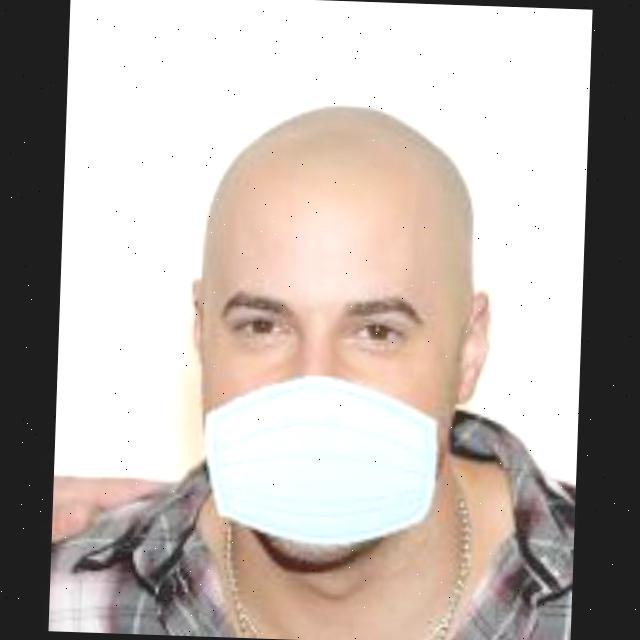suspicion: (182, 130, 495, 539)
